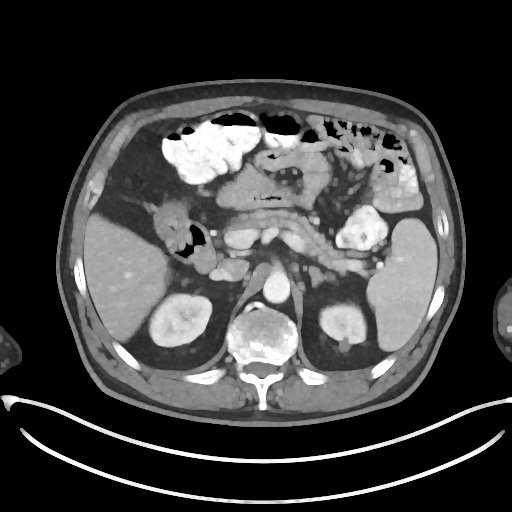Lesion: (336, 335, 352, 360)
